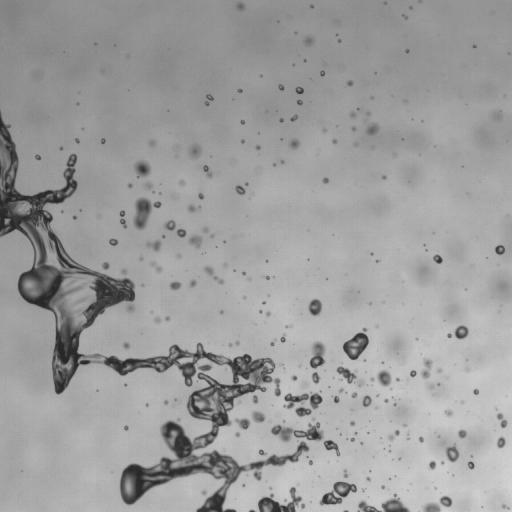droplet: (284, 391, 322, 416), (133, 197, 161, 229), (343, 328, 368, 360), (310, 341, 325, 368), (134, 160, 151, 177), (445, 444, 459, 462), (376, 370, 391, 386), (308, 299, 321, 315), (454, 325, 468, 339), (234, 418, 250, 429), (146, 240, 161, 251), (189, 235, 201, 248), (497, 413, 507, 428), (189, 145, 201, 157), (367, 122, 378, 135), (252, 411, 265, 422), (164, 220, 175, 230), (170, 281, 181, 290), (311, 372, 320, 383), (362, 395, 371, 406), (290, 139, 299, 149), (235, 185, 245, 194), (497, 437, 505, 448), (495, 245, 504, 254), (433, 254, 442, 263), (205, 94, 212, 105), (304, 37, 313, 45), (492, 111, 501, 119), (177, 229, 186, 237), (458, 429, 466, 438), (237, 2, 244, 10), (145, 182, 153, 189), (188, 204, 195, 212), (109, 238, 117, 245), (127, 304, 134, 312), (444, 409, 452, 416), (429, 461, 436, 469), (102, 262, 109, 269), (295, 87, 303, 93), (190, 279, 196, 287), (252, 395, 258, 403), (468, 461, 474, 469), (290, 115, 297, 121), (301, 381, 307, 388), (333, 396, 339, 403), (259, 449, 266, 455), (278, 84, 284, 90), (149, 140, 155, 146), (123, 342, 129, 348), (410, 370, 416, 376), (198, 192, 203, 199), (280, 335, 285, 342), (343, 470, 348, 477), (347, 80, 353, 85), (323, 177, 328, 183), (179, 180, 185, 185), (154, 317, 160, 322), (270, 340, 275, 346), (291, 375, 297, 380), (351, 392, 357, 397), (502, 504, 508, 509), (297, 100, 302, 105), (35, 154, 40, 159), (203, 227, 208, 232), (266, 311, 271, 316), (473, 389, 478, 394), (201, 490, 206, 495), (320, 71, 324, 76), (350, 112, 354, 117), (101, 138, 105, 143), (332, 139, 337, 143), (419, 437, 423, 442), (75, 138, 79, 142), (256, 145, 260, 149), (382, 175, 386, 179), (265, 275, 269, 279), (165, 316, 169, 320), (447, 333, 451, 337), (235, 340, 239, 344), (370, 377, 374, 381), (429, 384, 433, 388), (339, 388, 343, 392), (175, 398, 179, 402), (164, 400, 168, 404), (350, 421, 354, 425), (124, 426, 128, 430), (235, 432, 239, 436), (366, 477, 370, 481), (309, 460, 312, 465), (238, 89, 242, 92), (241, 120, 244, 124), (352, 126, 355, 130), (323, 128, 326, 132), (128, 183, 131, 187), (177, 254, 180, 258), (438, 368, 441, 372), (395, 378, 399, 381), (384, 399, 388, 402), (350, 438, 354, 441), (381, 485, 384, 489), (286, 325, 291, 327), (403, 15, 406, 18), (280, 119, 283, 122), (73, 216, 76, 219), (406, 49, 408, 52), (367, 112, 369, 115), (241, 140, 244, 142), (281, 160, 283, 163), (242, 272, 245, 274), (466, 368, 468, 371), (311, 5, 313, 7), (338, 39, 340, 41), (473, 45, 475, 47), (60, 147, 62, 149), (198, 206, 200, 208), (140, 258, 142, 260), (263, 302, 265, 304), (221, 311, 223, 313), (260, 310, 262, 312), (229, 343, 231, 345), (312, 418, 314, 420), (441, 462, 443, 464), (363, 489, 365, 491)
ligament: (0, 111, 338, 511), (257, 486, 305, 511), (357, 493, 410, 511), (319, 481, 356, 505), (336, 366, 365, 386), (420, 495, 452, 511), (204, 266, 223, 284), (421, 358, 432, 378), (150, 261, 161, 272), (388, 430, 399, 441), (203, 165, 212, 177), (120, 210, 126, 228), (249, 509, 255, 511), (343, 510, 347, 511), (418, 0, 421, 1)
